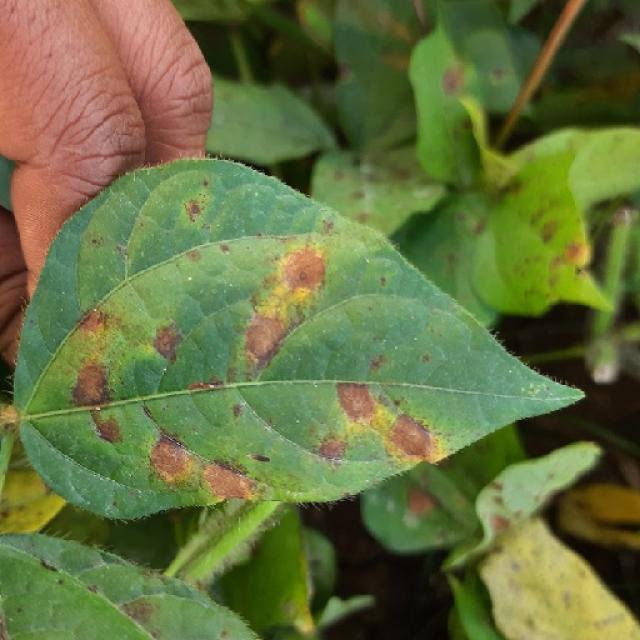Anthracnose: (324, 374, 393, 423), (242, 314, 288, 369), (117, 354, 169, 401), (280, 246, 329, 294), (389, 414, 436, 459), (201, 461, 254, 500), (150, 439, 192, 483), (72, 362, 110, 407), (153, 324, 183, 364), (88, 410, 121, 444), (405, 486, 437, 516), (121, 599, 156, 626), (78, 308, 106, 335), (316, 438, 346, 461), (442, 65, 464, 94), (561, 240, 587, 264), (184, 198, 205, 222), (490, 513, 511, 534), (540, 221, 559, 242), (368, 353, 387, 374), (489, 65, 508, 84), (187, 381, 220, 391), (39, 557, 58, 573), (471, 218, 487, 235), (561, 590, 573, 608), (321, 218, 335, 233), (250, 453, 271, 463), (186, 249, 202, 262), (232, 403, 244, 419), (510, 560, 522, 573), (114, 244, 126, 256), (86, 583, 99, 594), (219, 243, 230, 254), (421, 353, 431, 364), (90, 237, 102, 246), (379, 276, 387, 287), (202, 179, 209, 188), (16, 607, 24, 614), (56, 578, 64, 585)
Blackgram: (15, 160, 581, 518)
